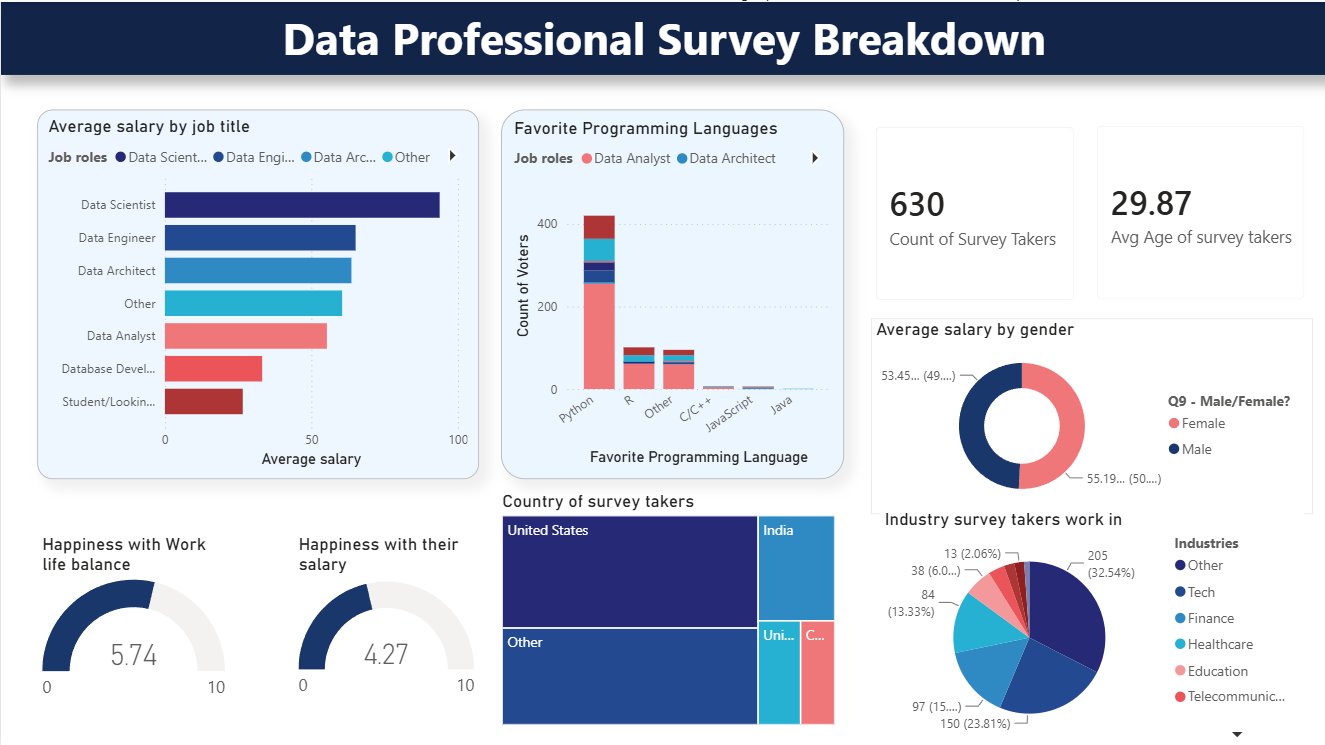

This screenshot's page, from the dashboard's own definition file:
{"tool":"powerbi","page":{"name":"Page 1","canvas":[1280,720],"ordinal":0},"visuals":[{"type":"textbox","box":[0,0,1280.3,70.4],"z":0},{"type":"cardVisual","fields":{"Data":["CountNonNull(Data Professional Survey.Unique ID)"]},"box":[827.9,104,225.5,201.2],"z":1000},{"type":"cardVisual","fields":{"Data":["Avg(Data Professional Survey.Q10 - Current Age)"]},"box":[1041.2,102.6,235,201.2],"z":2000},{"type":"treemap","title":"Country of survey takers","fields":{"Group":["Data Professional Survey.Q11 - Which Country do you live in?.1"],"Values":["CountNonNull(Data Professional Survey.Q11 - Which Country do you live in?.1)"]},"box":[479.4,471.3,330.9,230.9],"z":5000},{"type":"donutChart","title":"Average salary by gender","fields":{"Category":["Data Professional Survey.Q9 - Male/Female?"],"Y":["Avg(Data Professional Survey.Average Salary)"]},"box":[840,305.2,426.8,189.1],"z":8000},{"type":"barChart","title":"Average salary by job title","fields":{"Category":["Data Professional Survey.Q1 - Which Title Best Fits your Current Role?.1"],"Y":["Avg(Data Professional Survey.Average Salary)"],"Series":["Data Professional Survey.Q1 - Which Title Best Fits your Current Role?.1"]},"box":[35.1,104,426.8,356.5],"z":8001},{"type":"columnChart","title":"Favorite Programming Languages","fields":{"Category":["Data Professional Survey.Q5 - Favorite Programming Language.1"],"Y":["CountNonNull(Data Professional Survey.Unique ID)"],"Series":["Data Professional Survey.Q1 - Which Title Best Fits your Current Role?.1"]},"box":[482.1,104,330.9,356.5],"z":8002},{"type":"gauge","title":"Happiness with Work life balance","fields":{"Y":["Avg(Data Professional Survey.Q6 - How Happy are you in your Current Position with the following? (Work/Life Balance))"],"MinValue":["Min(Data Professional Survey.Q6 - How Happy are you in your Current Position with the following? (Work/Life Balance))"],"MaxValue":["Max(Data Professional Survey.Q6 - How Happy are you in your Current Position with the following? (Work/Life Balance))"]},"box":[35.1,513.2,186.4,171.5],"z":8003},{"type":"gauge","title":"Happiness with their salary","fields":{"Y":["Avg(Data Professional Survey.Q6 - How Happy are you in your Current Position with the following? (Salary))"],"MinValue":["Min(Data Professional Survey.Q6 - How Happy are you in your Current Position with the following? (Salary))"],"MaxValue":["Max(Data Professional Survey.Q6 - How Happy are you in your Current Position with the following? (Salary))"]},"box":[282.3,513.2,179.6,171.5],"z":8004},{"type":"pieChart","title":"Industry survey takers work in","fields":{"Category":["Data Professional Survey.Q4 - What Industry do you work in?.1"],"Y":["CountNonNull(Data Professional Survey.Q4 - What Industry do you work in?.1)"]},"box":[848.1,488.9,409.2,230.9],"z":8005}]}

Visuals, with their boxes in screenshot pixels (x1, y1, x2, y2), scaled from the page's 1280x720 canvas onto the 1325x745 screenshot:
textbox: l=0, t=0, r=1324, b=73
cardVisual - CountNonNull(Data Professional Survey.Unique ID): l=857, t=108, r=1090, b=316
cardVisual - Avg(Data Professional Survey.Q10 - Current Age): l=1078, t=106, r=1321, b=314
"Country of survey takers" treemap: l=496, t=488, r=839, b=727
"Average salary by gender" donutChart: l=870, t=316, r=1311, b=511
"Average salary by job title" barChart: l=36, t=108, r=478, b=476
"Favorite Programming Languages" columnChart: l=499, t=108, r=842, b=476
"Happiness with Work life balance" gauge: l=36, t=531, r=229, b=708
"Happiness with their salary" gauge: l=292, t=531, r=478, b=708
"Industry survey takers work in" pieChart: l=878, t=506, r=1302, b=744
